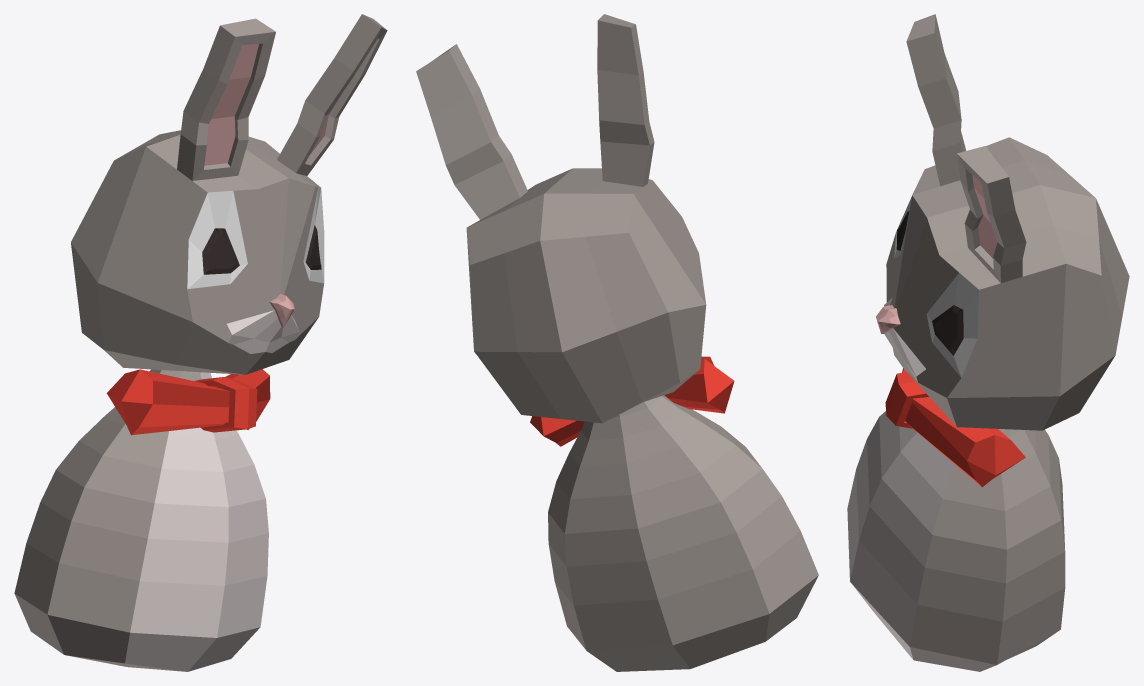
Rendered from krolik.gltf.
The picture shows the model from 3 angles, left to right: view 1: azimuth 30°, elevation 25°; view 2: azimuth 150°, elevation 25°; view 3: azimuth 270°, elevation 25°; orthographic projection. The views are drawn at different scales.
Parts seen in each view (by area): view 1: kroliczek; view 2: kroliczek; view 3: kroliczek.
Part boxes in pixels (left/top/right/bottom): kroliczek: left=14, top=14, right=387, bottom=671; kroliczek: left=416, top=14, right=818, bottom=671; kroliczek: left=847, top=14, right=1129, bottom=671.
Bounding box in the file's own units: 1.2 × 1.94 × 0.754.
